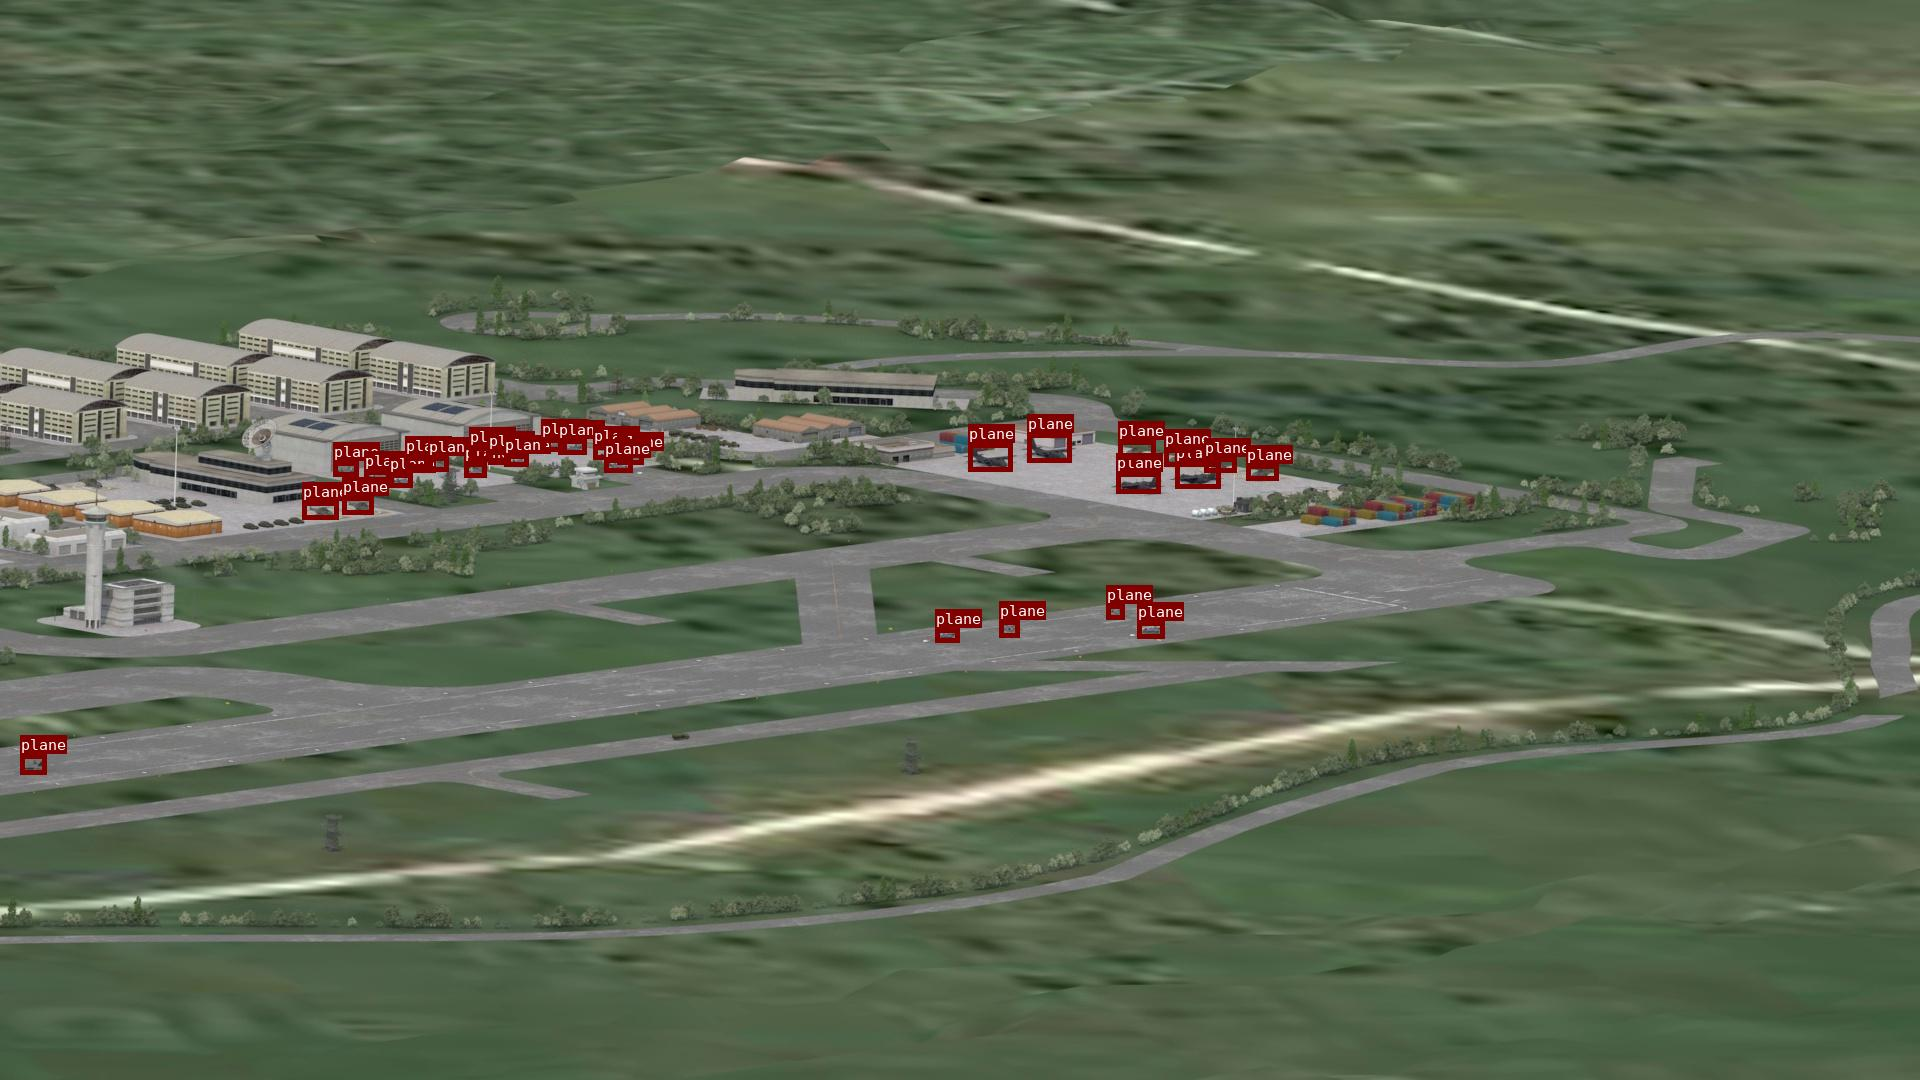plane: (1027, 433, 1071, 462), (968, 443, 1011, 471), (1175, 462, 1220, 488), (1116, 472, 1160, 493), (1118, 440, 1155, 459), (302, 501, 338, 520), (342, 496, 373, 514), (20, 754, 46, 774), (1164, 448, 1195, 465), (1246, 464, 1278, 480), (1137, 621, 1164, 638), (1204, 458, 1236, 472), (558, 439, 585, 454), (593, 444, 621, 459), (604, 458, 632, 472), (464, 462, 487, 477), (364, 469, 390, 483), (617, 451, 644, 464), (935, 628, 959, 642), (334, 462, 357, 476), (1000, 620, 1019, 637), (541, 438, 566, 451), (405, 455, 429, 468), (469, 446, 491, 460), (488, 450, 509, 464), (389, 473, 411, 487), (429, 456, 448, 471), (504, 454, 527, 465), (1106, 604, 1124, 618)
